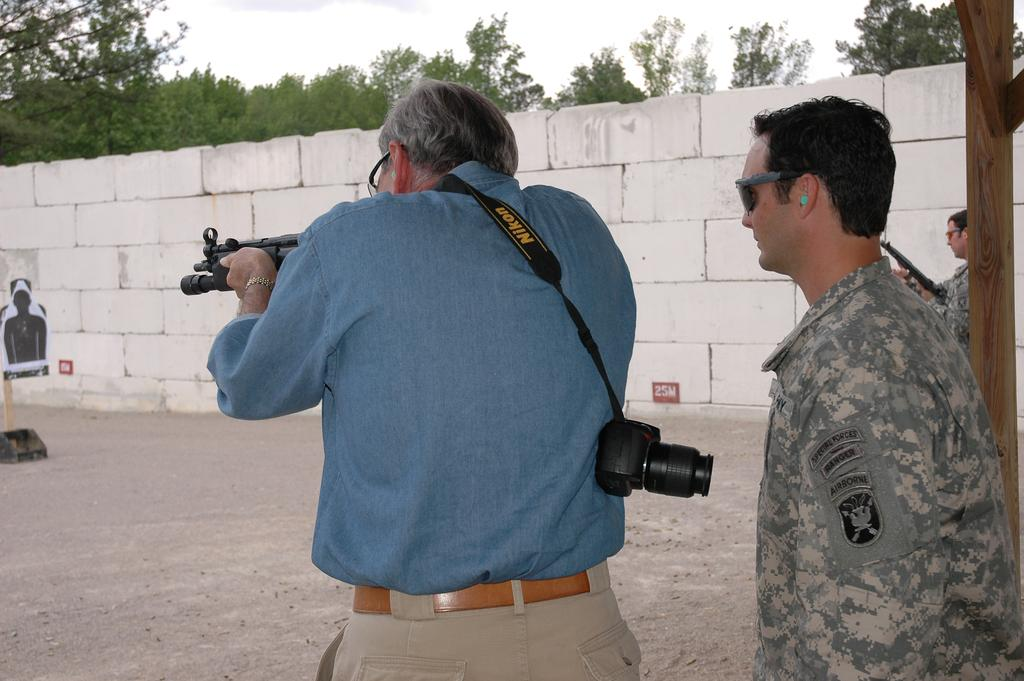Rifle: (180, 224, 301, 291)
